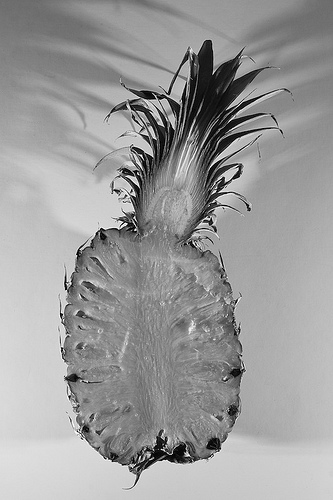pineapple: (57, 36, 297, 481)
